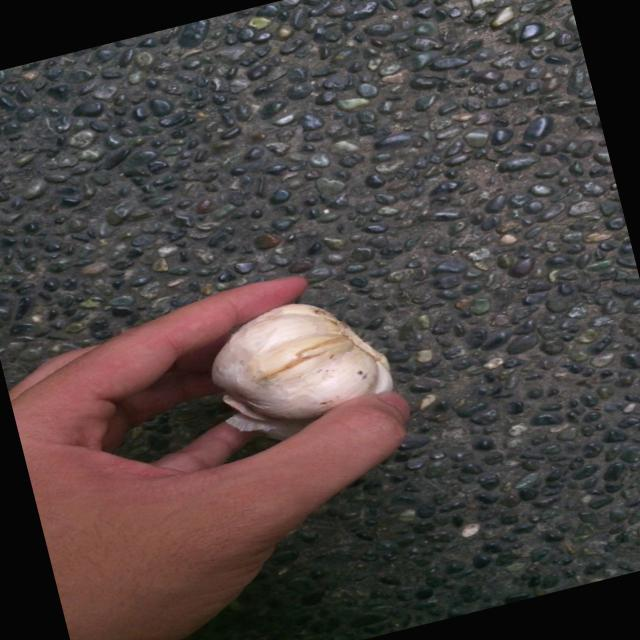bawang: (192, 277, 408, 455)
